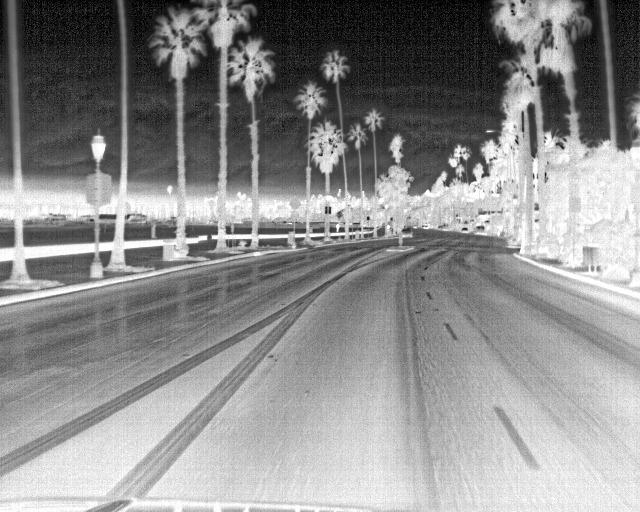car: (401, 226, 414, 239), (473, 225, 486, 236), (460, 225, 470, 235)
